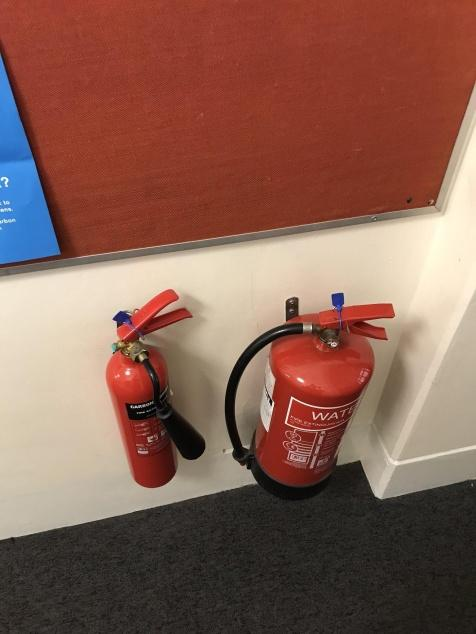APAR: (247, 301, 395, 501), (104, 287, 194, 487)
